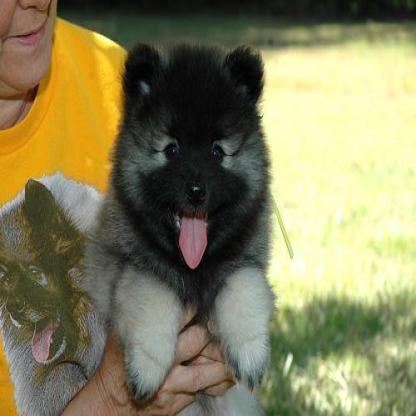keeshond: (84, 40, 275, 413)
